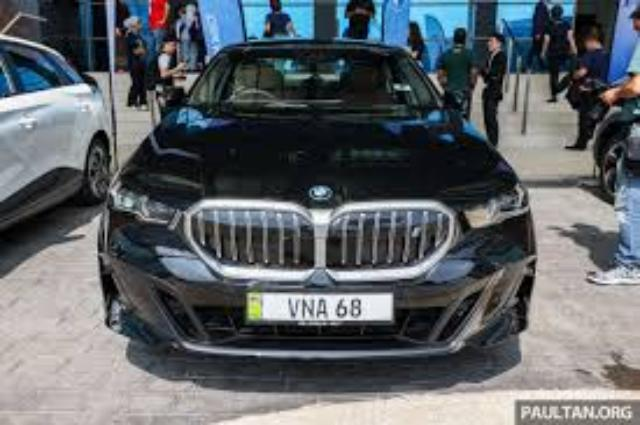License_Plate: (244, 290, 397, 327)
car: (97, 36, 539, 364)
